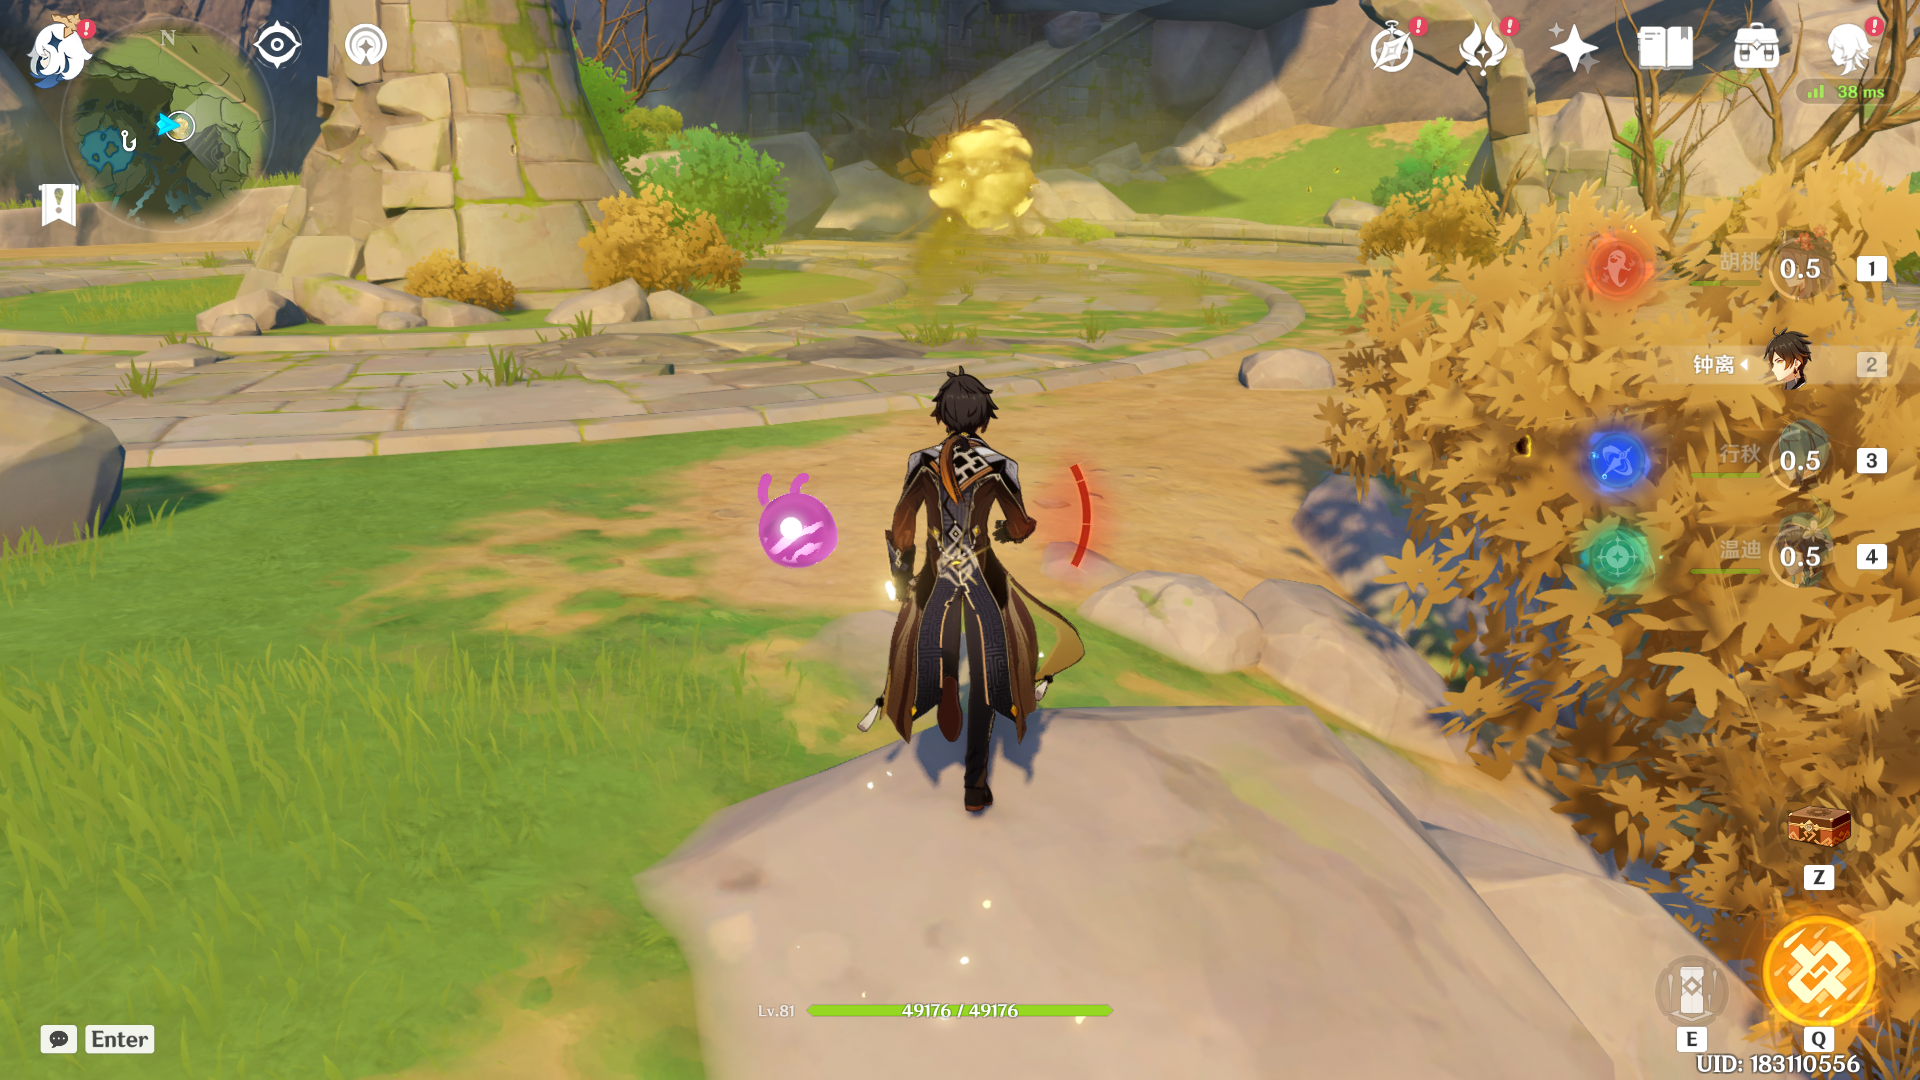character: (815, 344, 1118, 853)
